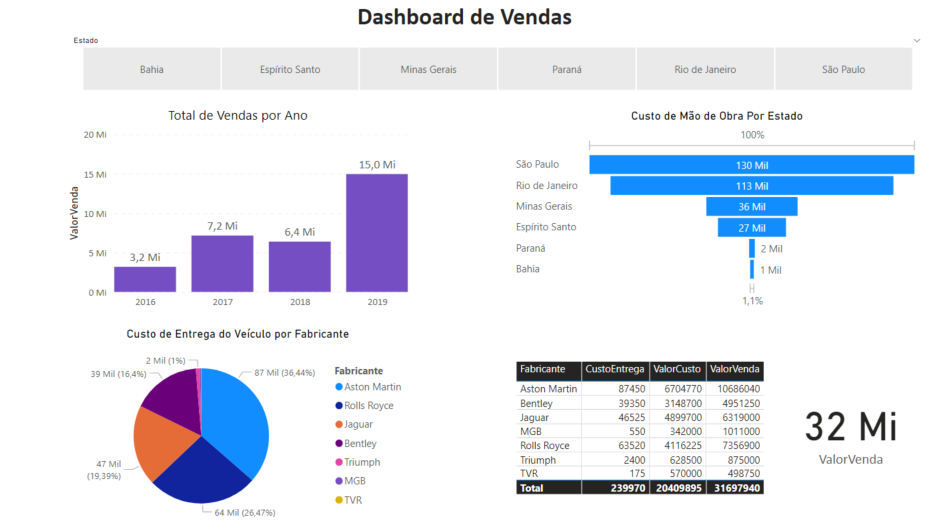

The page's visual inventory and layout, read from the dashboard file:
{"tool":"powerbi","page":{"name":"Página 1","canvas":[1280,720],"ordinal":0},"visuals":[{"type":"columnChart","title":"Total de Vendas por Ano","fields":{"Category":["VendaCarros.Ano"],"Y":["Sum(VendaCarros.ValorVenda)"]},"box":[87.9,145,467.2,281.2],"z":0},{"type":"pieChart","title":"Custo de Entrega do Veículo por Fabricante","fields":{"Category":["VendaCarros.Fabricante"],"Y":["Sum(VendaCarros.CustoEntrega)"]},"box":[87.9,442.3,467.2,275.3],"z":1000},{"type":"funnel","title":"Custo de Mão de Obra Por Estado","fields":{"Category":["VendaCarros.Estado"],"Y":["Sum(VendaCarros.CustoMaoDeObra)"]},"box":[688.3,149.4,550.7,272.4],"z":2000},{"type":"card","fields":{"Values":["Sum(VendaCarros.ValorVenda)"]},"box":[1032.5,519.9,222.6,120.1],"z":3000},{"type":"tableEx","fields":{"Values":["VendaCarros.Fabricante","Sum(VendaCarros.CustoEntrega)","Sum(VendaCarros.ValorCusto)","Sum(VendaCarros.ValorVenda)"]},"box":[688.3,483.3,344.2,213.8],"z":4000},{"type":"textbox","box":[10.6,0,1228.4,50.2],"z":5000},{"type":"slicer","fields":{"Values":["VendaCarros.Estado"]},"box":[87.9,45.4,1162.8,84.9],"z":6000}]}

Visuals, with their boxes in screenshot pixels (x1, y1, x2, y2), scaled from the page's 1280x720 canvas onto the 949x529 screenshot:
"Total de Vendas por Ano" columnChart: bbox=(65, 107, 412, 313)
"Custo de Entrega do Veículo por Fabricante" pieChart: bbox=(65, 325, 412, 527)
"Custo de Mão de Obra Por Estado" funnel: bbox=(510, 110, 919, 310)
card - Sum(VendaCarros.ValorVenda): bbox=(766, 382, 931, 470)
tableEx - VendaCarros.Fabricante x Sum(VendaCarros.CustoEntrega): bbox=(510, 355, 766, 512)
textbox: bbox=(8, 0, 919, 37)
slicer - VendaCarros.Estado: bbox=(65, 33, 927, 96)
